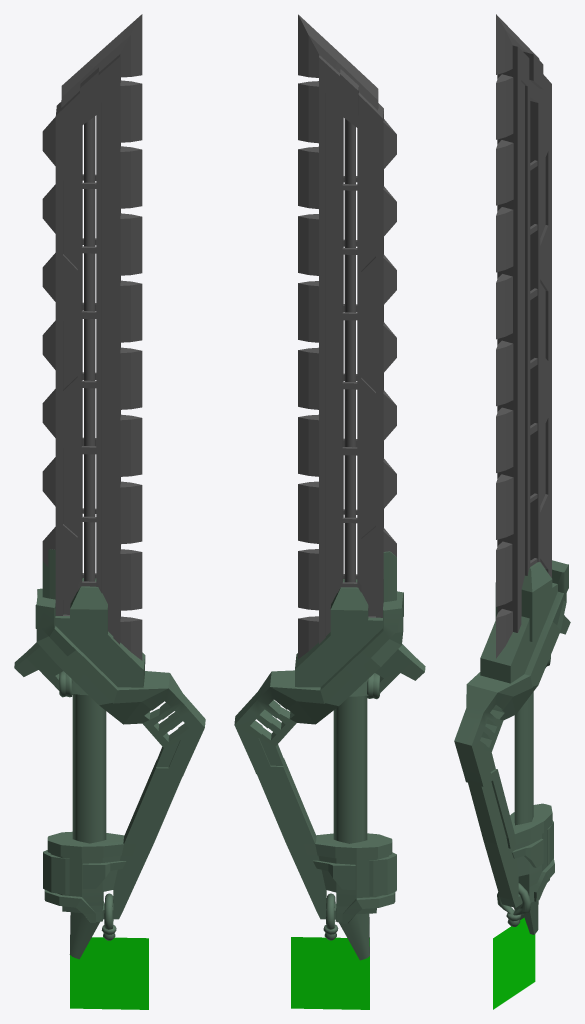
Rendered from Sword.fbx.
3 views of the same model, side by side, from view 1: azimuth 30°, elevation 25°; view 2: azimuth 210°, elevation 25°; view 3: azimuth 270°, elevation 25° (orthographic).
Visible parts, largest first — view 1: Sword, Feather; view 2: Sword, Feather; view 3: Sword, Feather.
Part boxes in pixels (box(x1,y1,x2,y2)): Sword: box(14, 14, 205, 959); Feather: box(70, 937, 148, 1009); Sword: box(234, 14, 425, 960); Feather: box(291, 937, 369, 1009); Sword: box(454, 14, 570, 934); Feather: box(493, 917, 535, 1009).
Size of the model in its own units: 1.26 by 8.09 by 0.8613.
